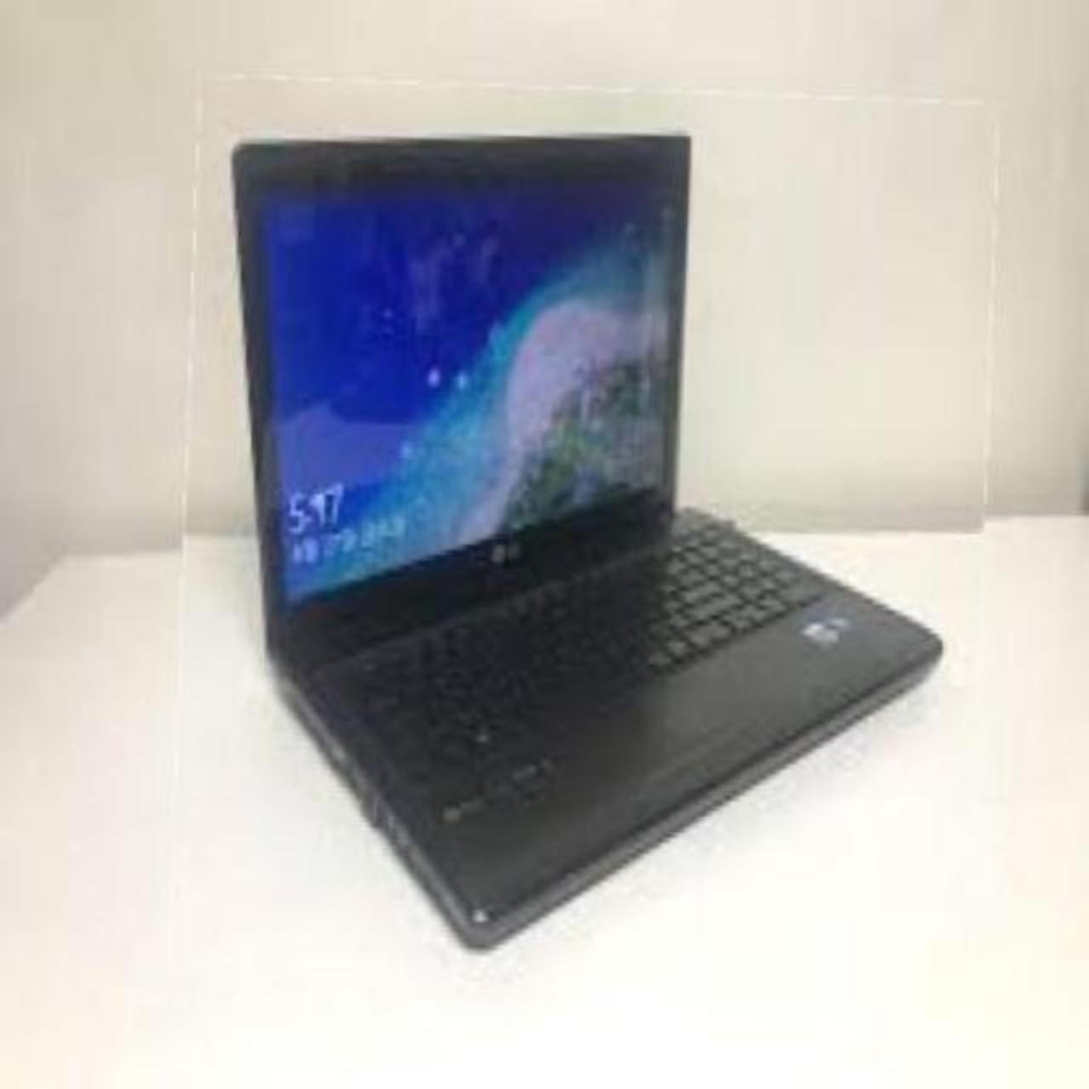laptop: (179, 83, 992, 995)
